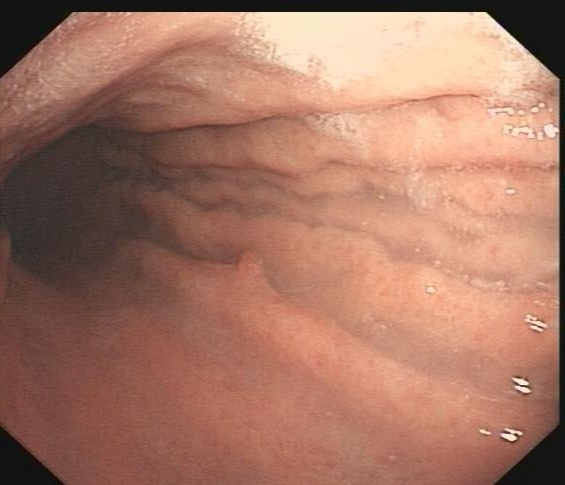Polyp: (220, 224, 272, 299)
